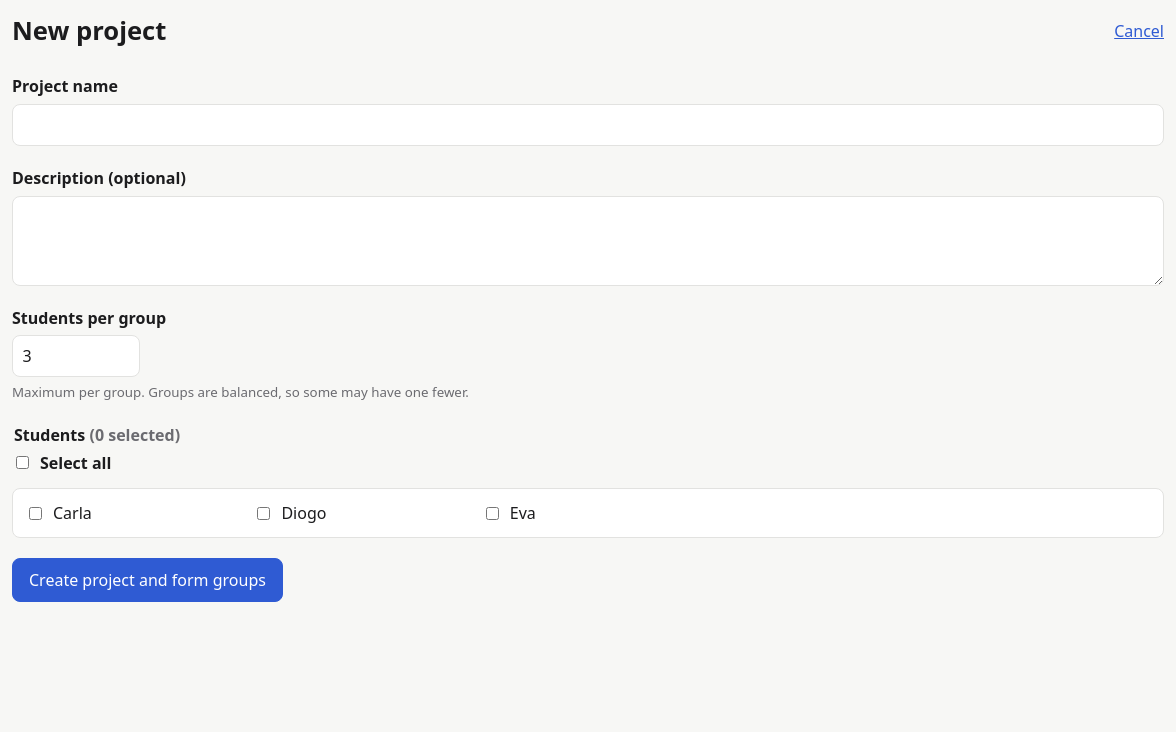
Scenario: CreateProjectPage › shows the server message when creation is rejected
Expected: the text "Carla" is shown, top-left (29, 502), bottom-right (92, 524)
In the field labelled "Project name": (588, 125) top-left (12, 104), bottom-right (1164, 146), type "P"
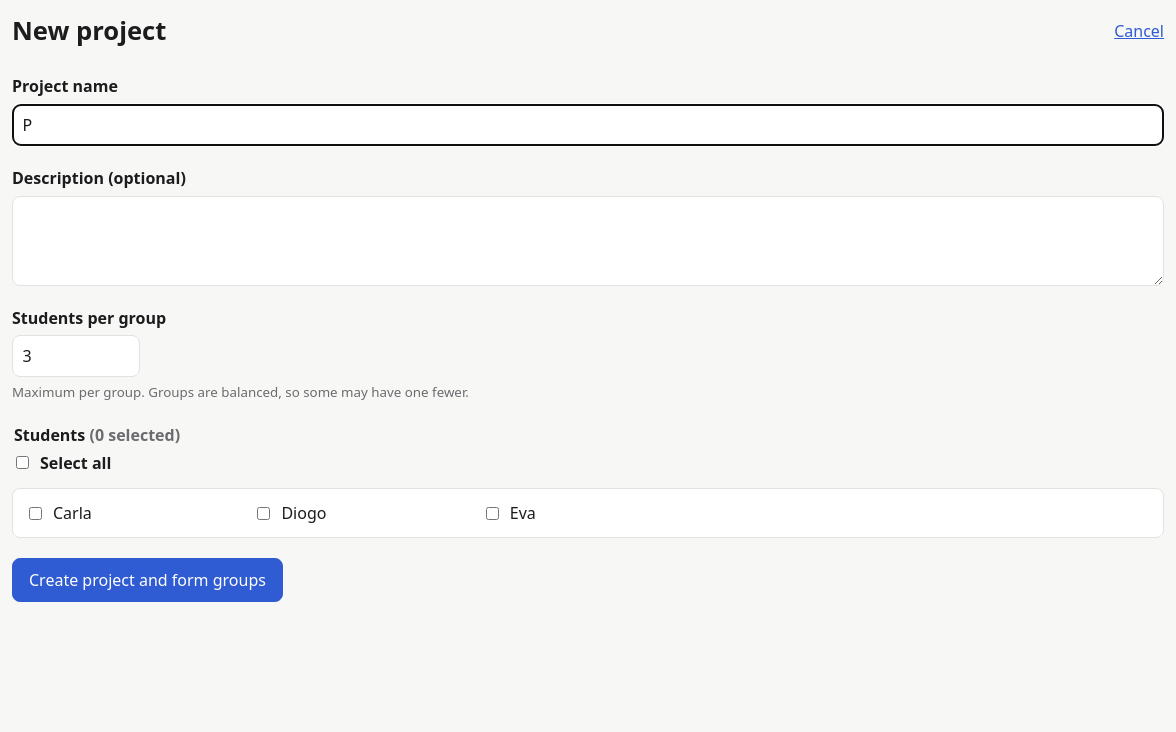
Click the checkbox labelled "Carla": (36, 513) top-left (29, 507), bottom-right (42, 520)
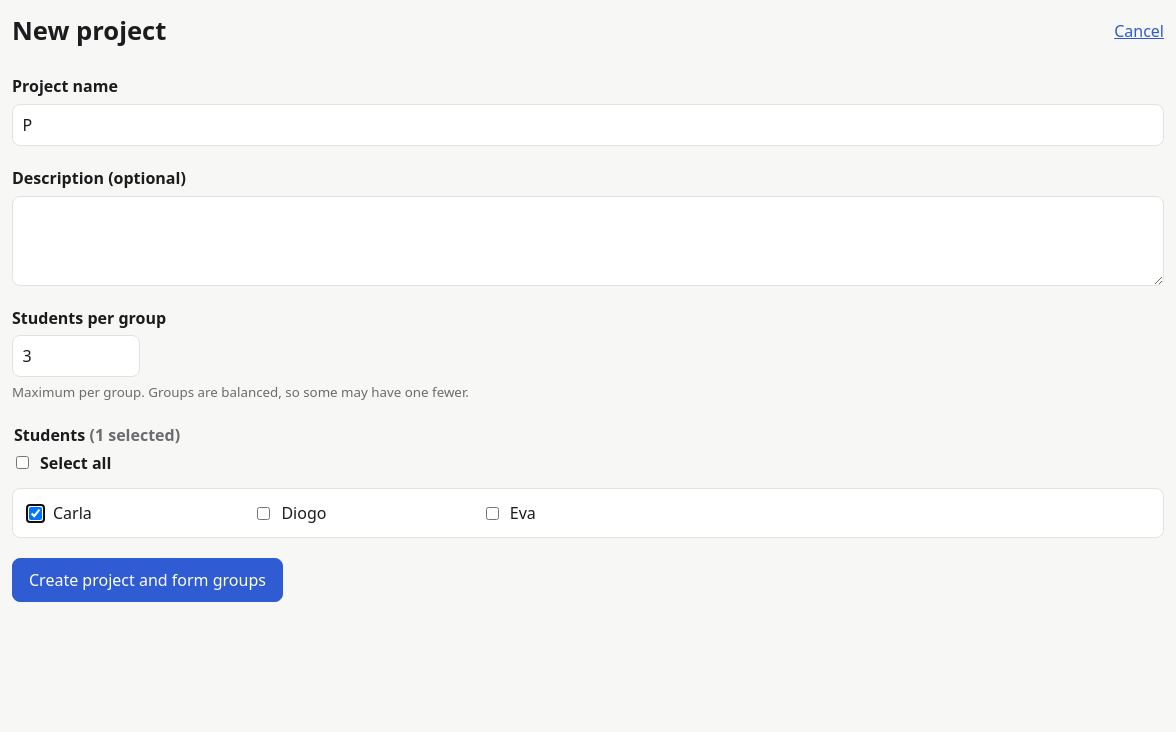
Click the button "Create project and form groups": (147, 580) top-left (12, 558), bottom-right (283, 602)
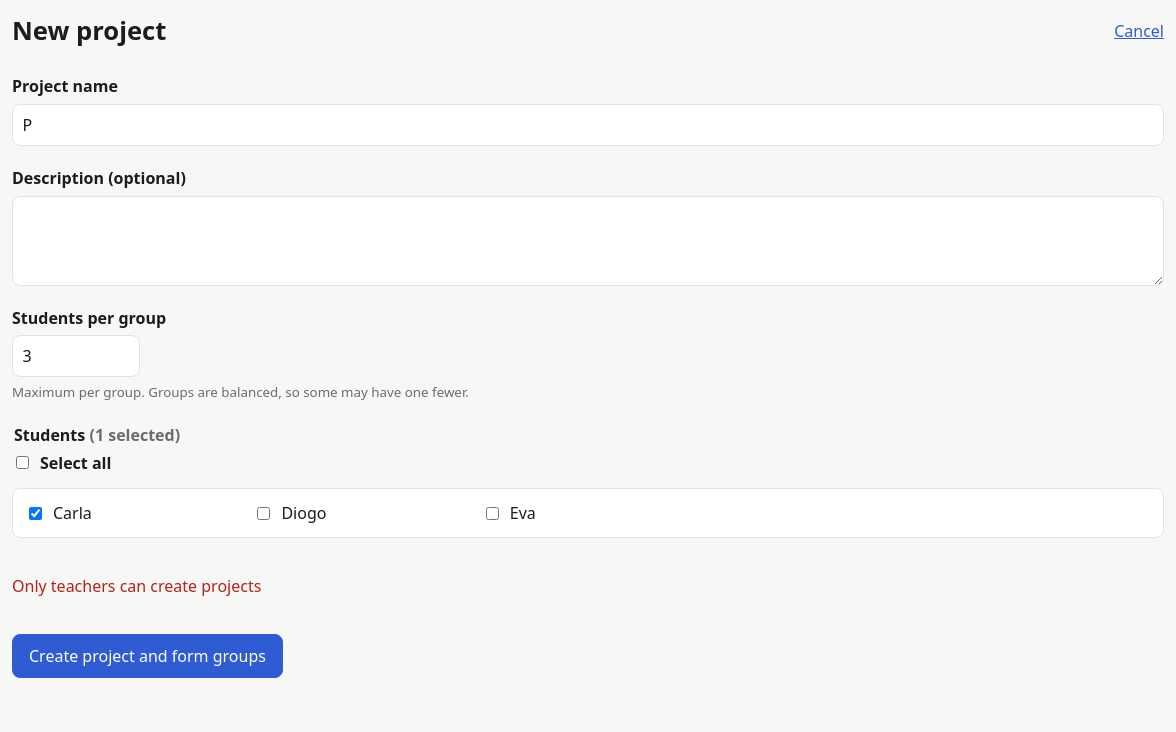
Expected: the message reads "Only teachers can create projects", top-left (12, 575), bottom-right (261, 597)
